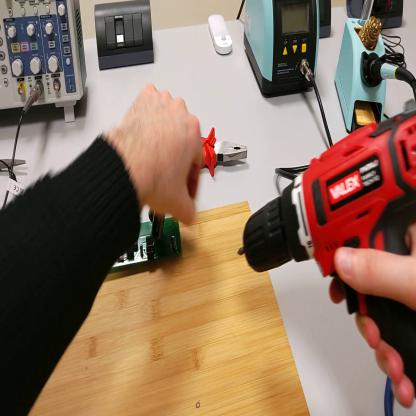electric screwdriver: (237, 109, 416, 394)
hand: (329, 218, 416, 409), (116, 85, 206, 229)
high voltage board: (111, 206, 183, 268)
oscilloscope: (2, 2, 88, 125)
oscilloscope probe tip: (2, 155, 26, 175)
pliers: (201, 126, 248, 177), (385, 376, 397, 414)
socket: (360, 1, 405, 34), (320, 2, 332, 40)
welder base: (335, 16, 390, 135)
welder probe tip: (372, 63, 415, 87)
welder station: (242, 2, 321, 100)
working area: (32, 201, 311, 416)
